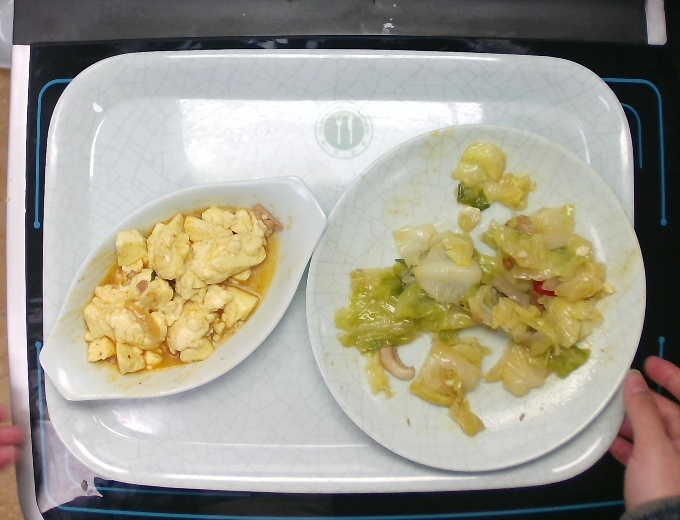JYsf-Da_Yuan_Pan: (286, 113, 656, 477)
JYsf-Yu_Pan: (33, 172, 332, 410)
